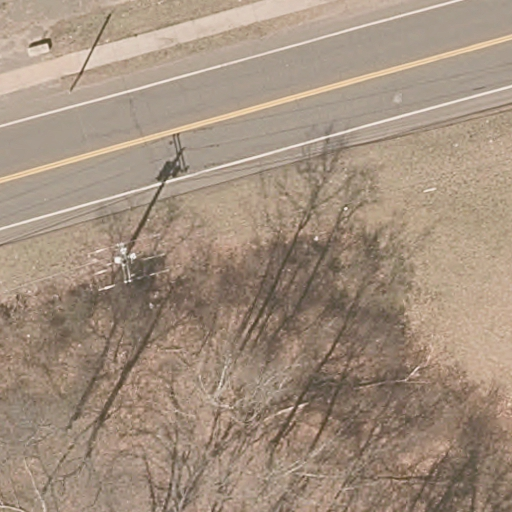DT: (90, 236, 169, 293)
